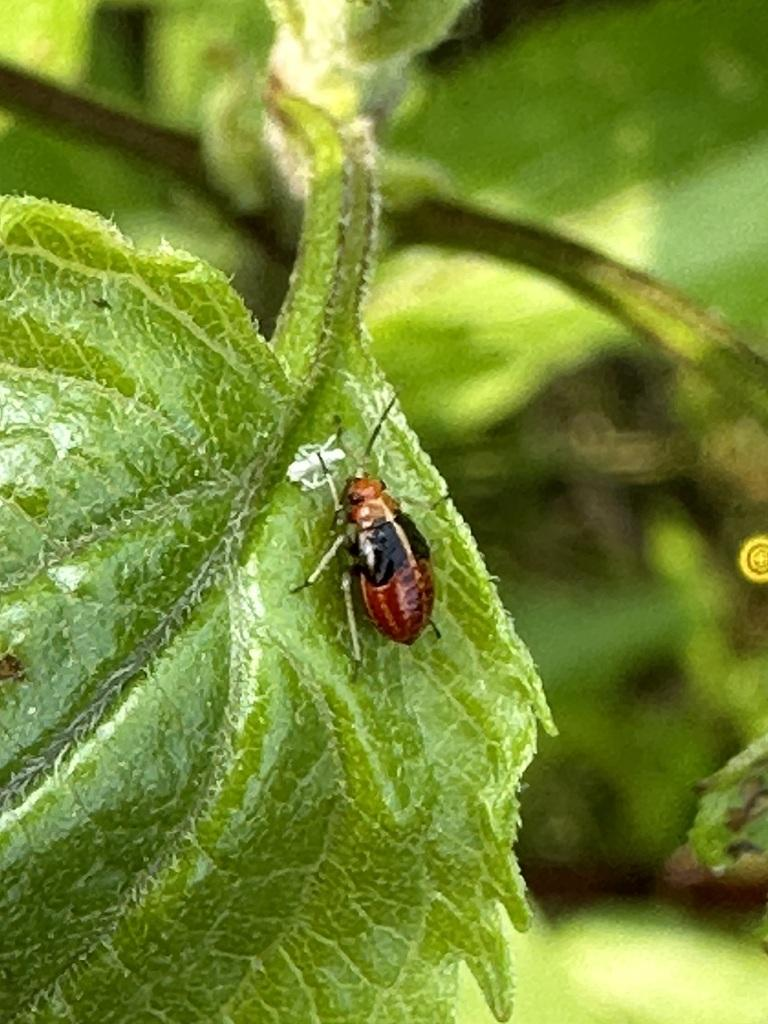plant_bugs: (249, 360, 533, 700)
